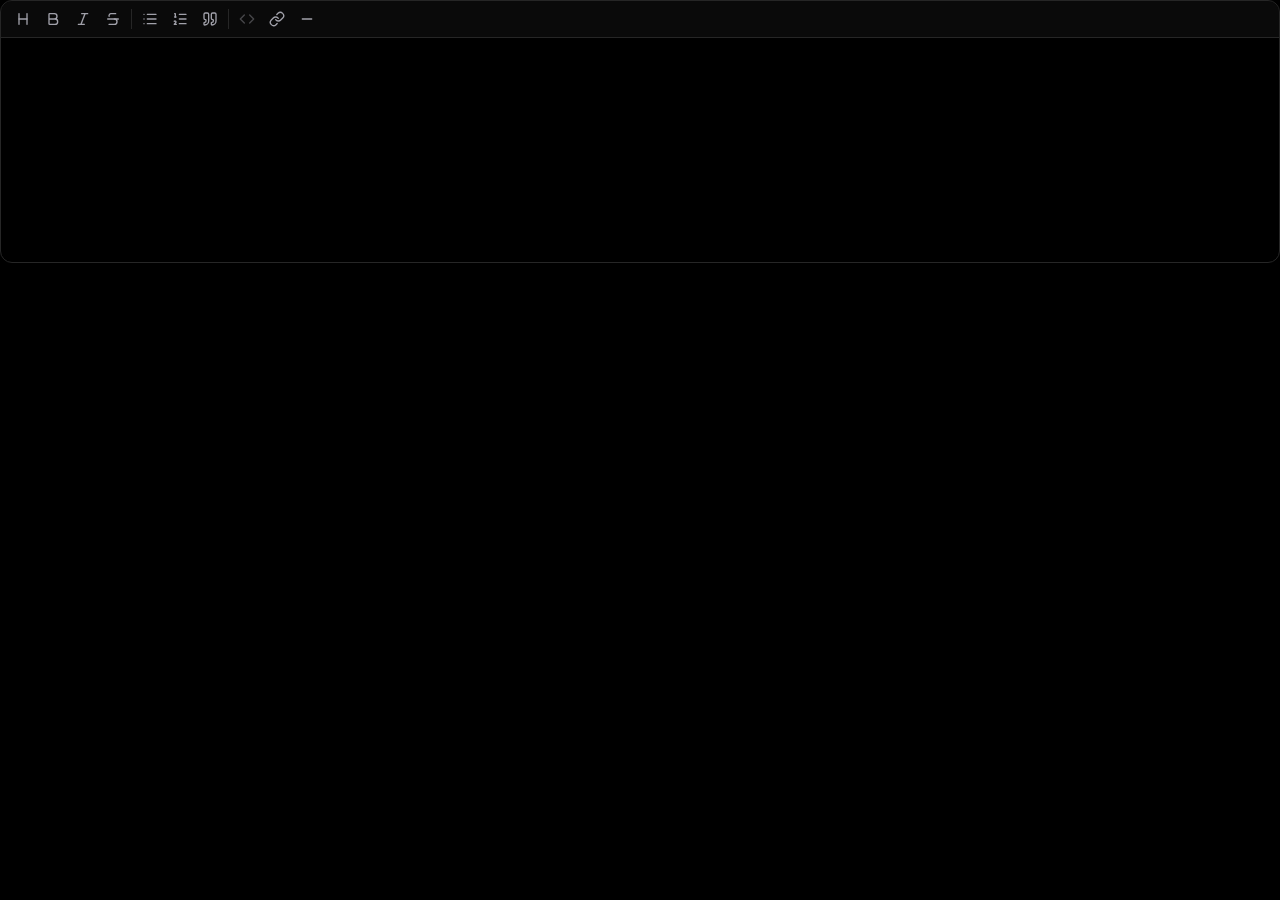
it: WysiwygEditor › empty URL keeps Insert disabled (nothing to apply, nothing to remove)
Step 1. Click the button titled "Link (⌘K)" → [277, 19], box [263,5,291,33]
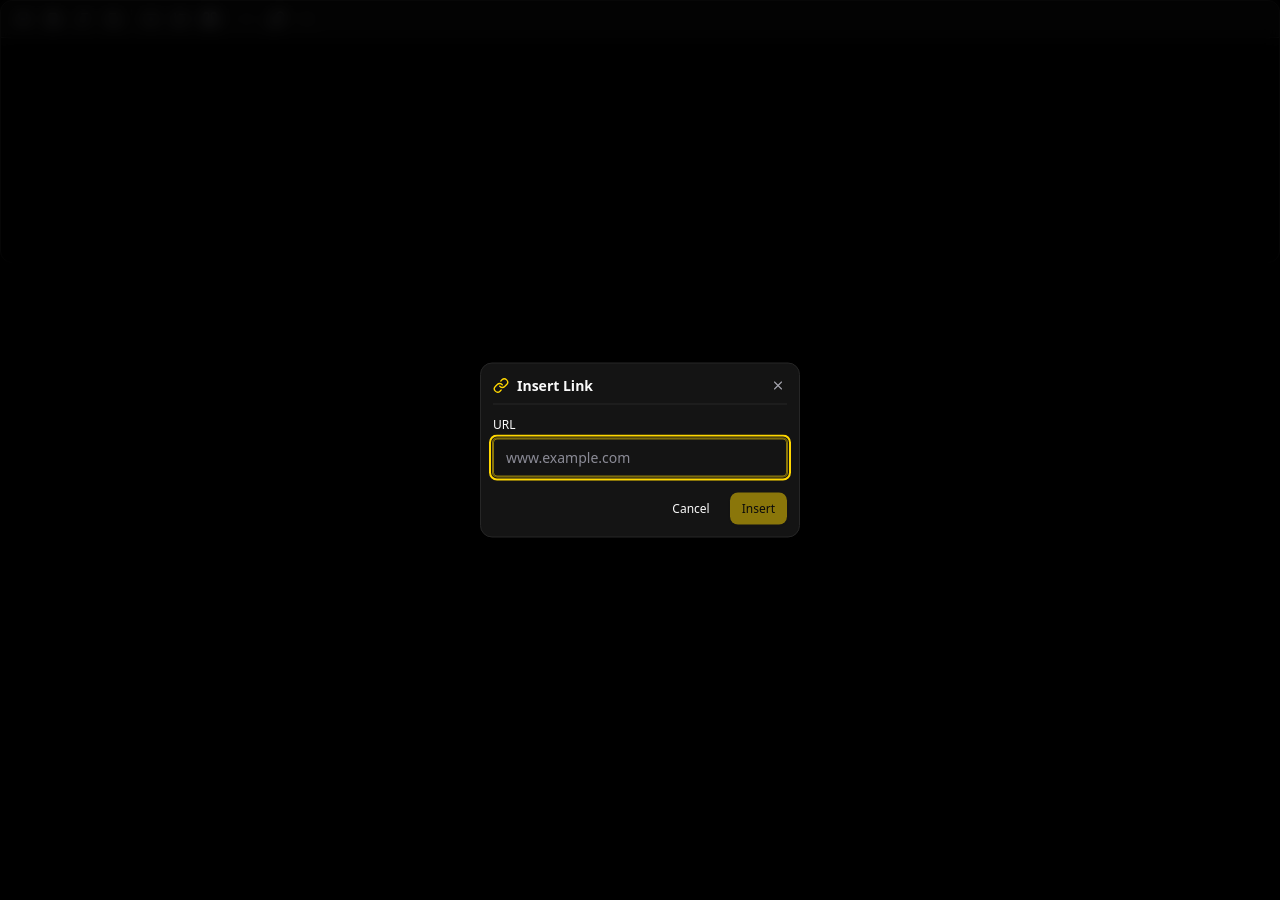
Expected: the button "Insert" is disabled, [730,492,787,524]
